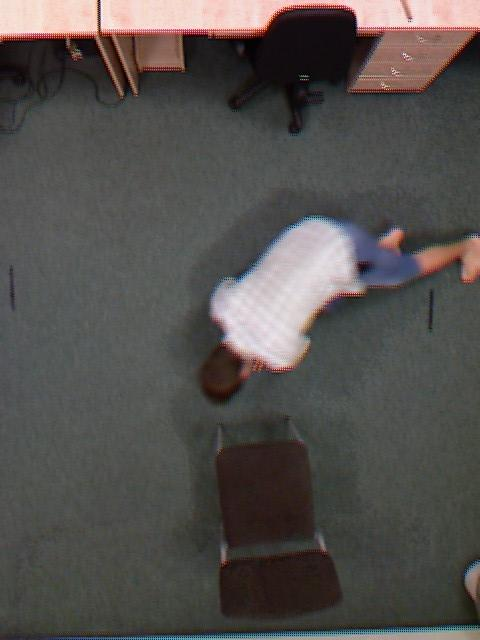fall: (257, 117, 417, 499)
